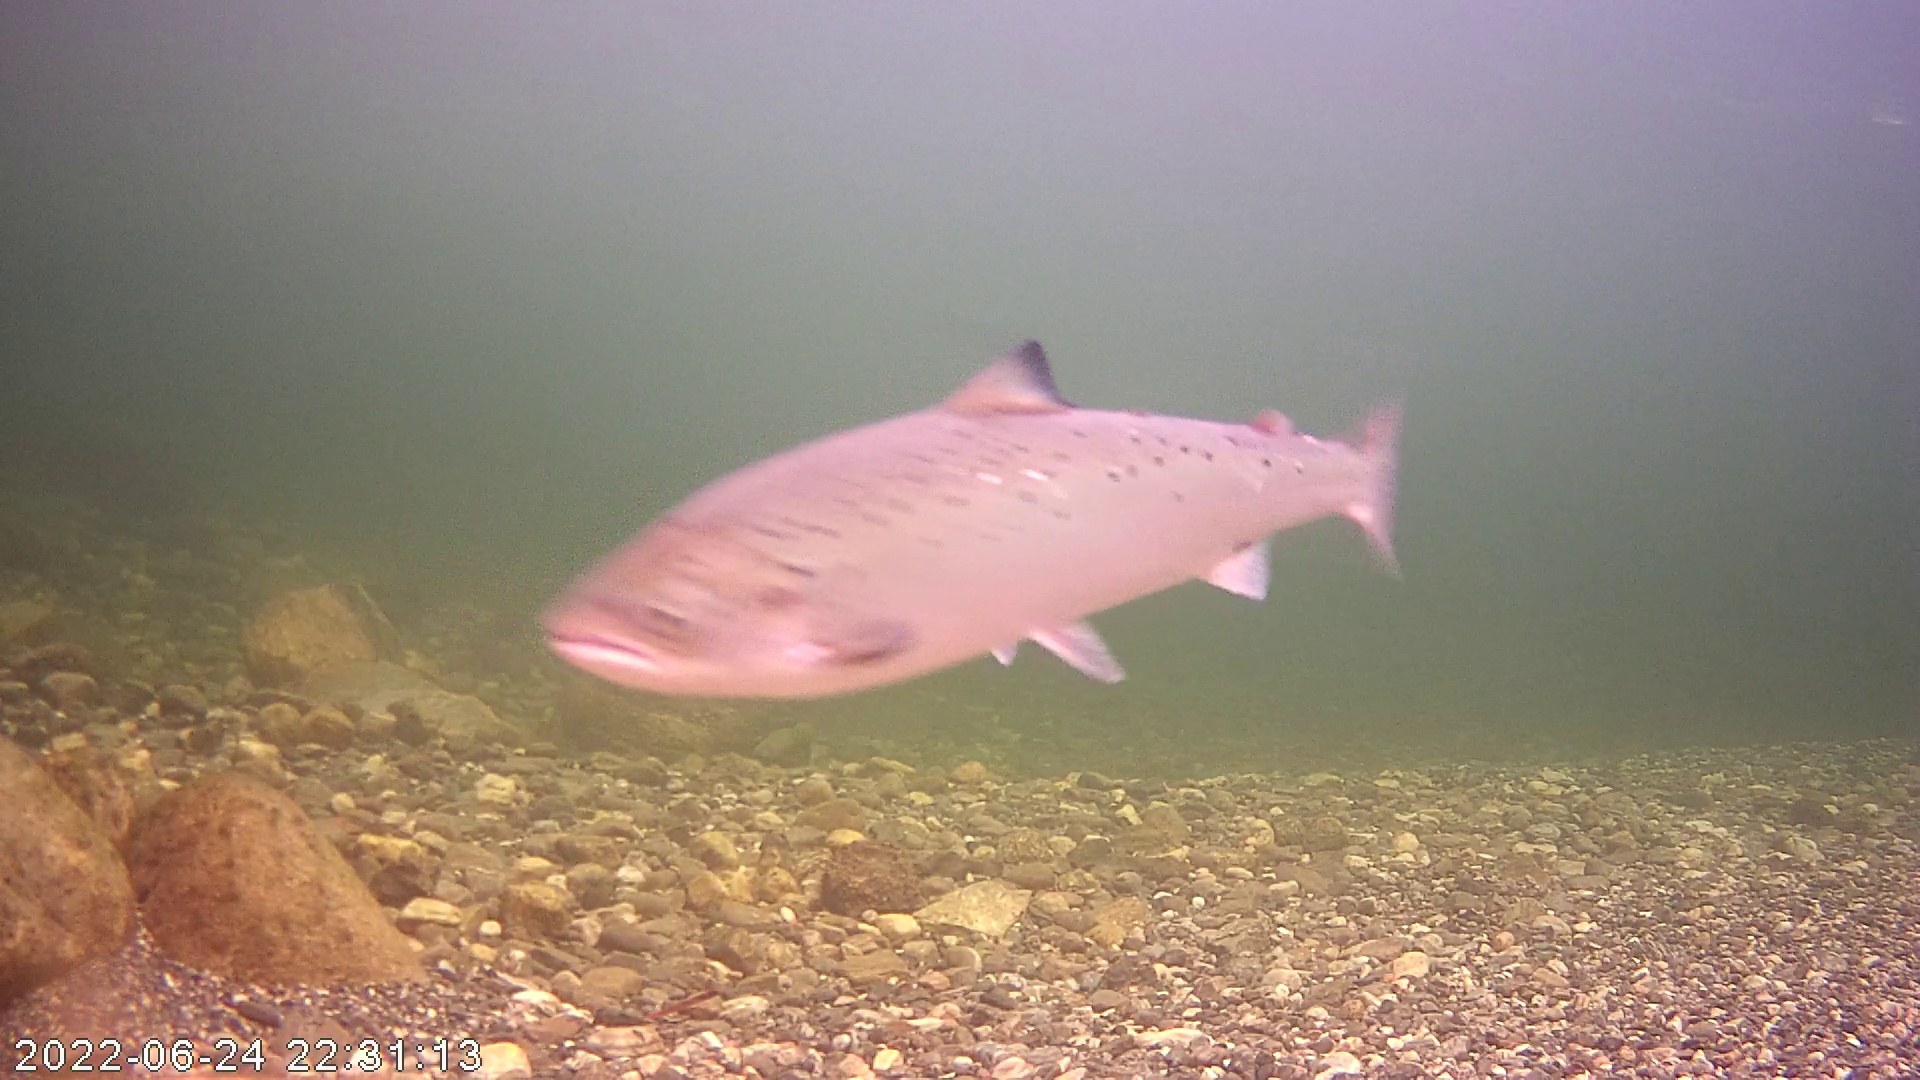salmon: (539, 336, 1418, 705)
